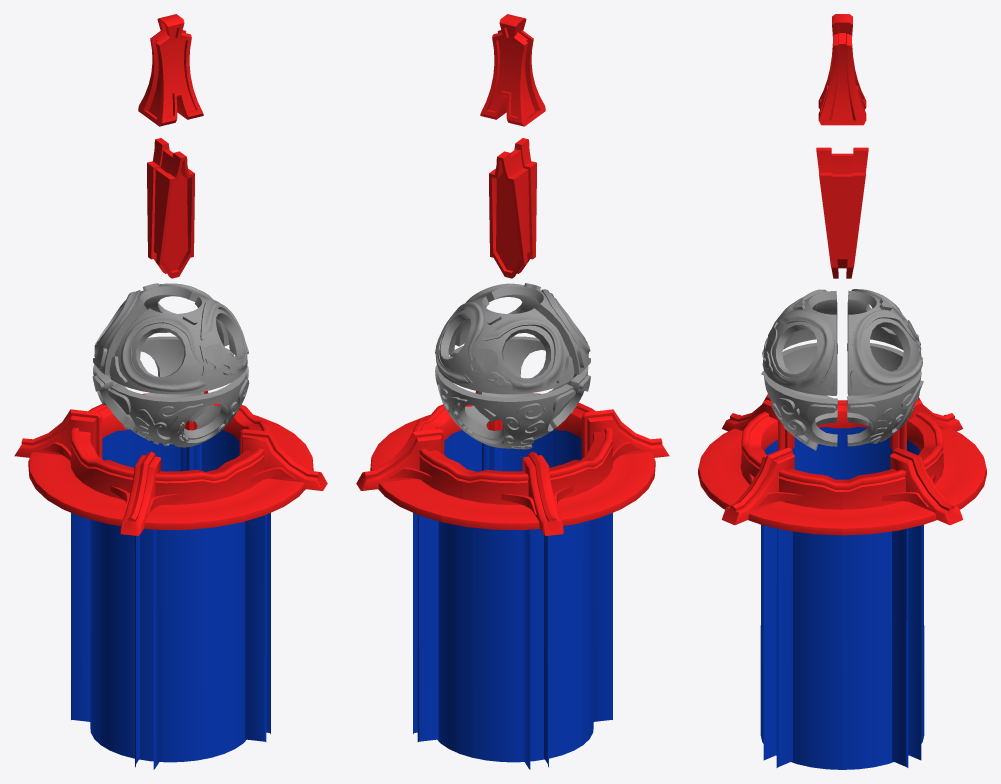
File: _M_Altar.fbx
3 views of the same model, side by side, from view 1: azimuth 30°, elevation 25°; view 2: azimuth 150°, elevation 25°; view 3: azimuth 270°, elevation 25° (orthographic).
Parts seen in each view (by area): view 1: Hole, UpperSphere_01, LowerPiece_low, LowerSphere_01, UpperPiece_low, UpperSphere_02, LowerSphere_02; view 2: Hole, UpperSphere_02, LowerPiece_low, LowerSphere_02, UpperPiece_low, UpperSphere_01, LowerSphere_01; view 3: Hole, UpperSphere_02, UpperSphere_01, LowerPiece_low, LowerSphere_01, LowerSphere_02, UpperPiece_low.
Boxes of the visible parts, x1,y1,x2,y2 form: Hole: (14,391,327,769); UpperSphere_01: (109,296,248,394); LowerPiece_low: (147,138,194,278); LowerSphere_01: (108,356,249,447); UpperPiece_low: (138,14,203,126); UpperSphere_02: (93,283,228,374); LowerSphere_02: (92,336,233,430); Hole: (356,391,669,769); UpperSphere_02: (435,296,574,394); LowerPiece_low: (489,138,536,278); LowerSphere_02: (435,356,575,449); UpperPiece_low: (480,14,545,126); UpperSphere_01: (455,283,590,374); LowerSphere_01: (450,336,590,428); Hole: (698,394,986,769); UpperSphere_02: (847,289,922,395); UpperSphere_01: (762,289,837,395); LowerPiece_low: (816,147,868,278); LowerSphere_01: (761,342,837,450); LowerSphere_02: (847,343,923,446); UpperPiece_low: (818,14,866,125).
Bounding box in the file's own units: 442 × 1211 × 442.
